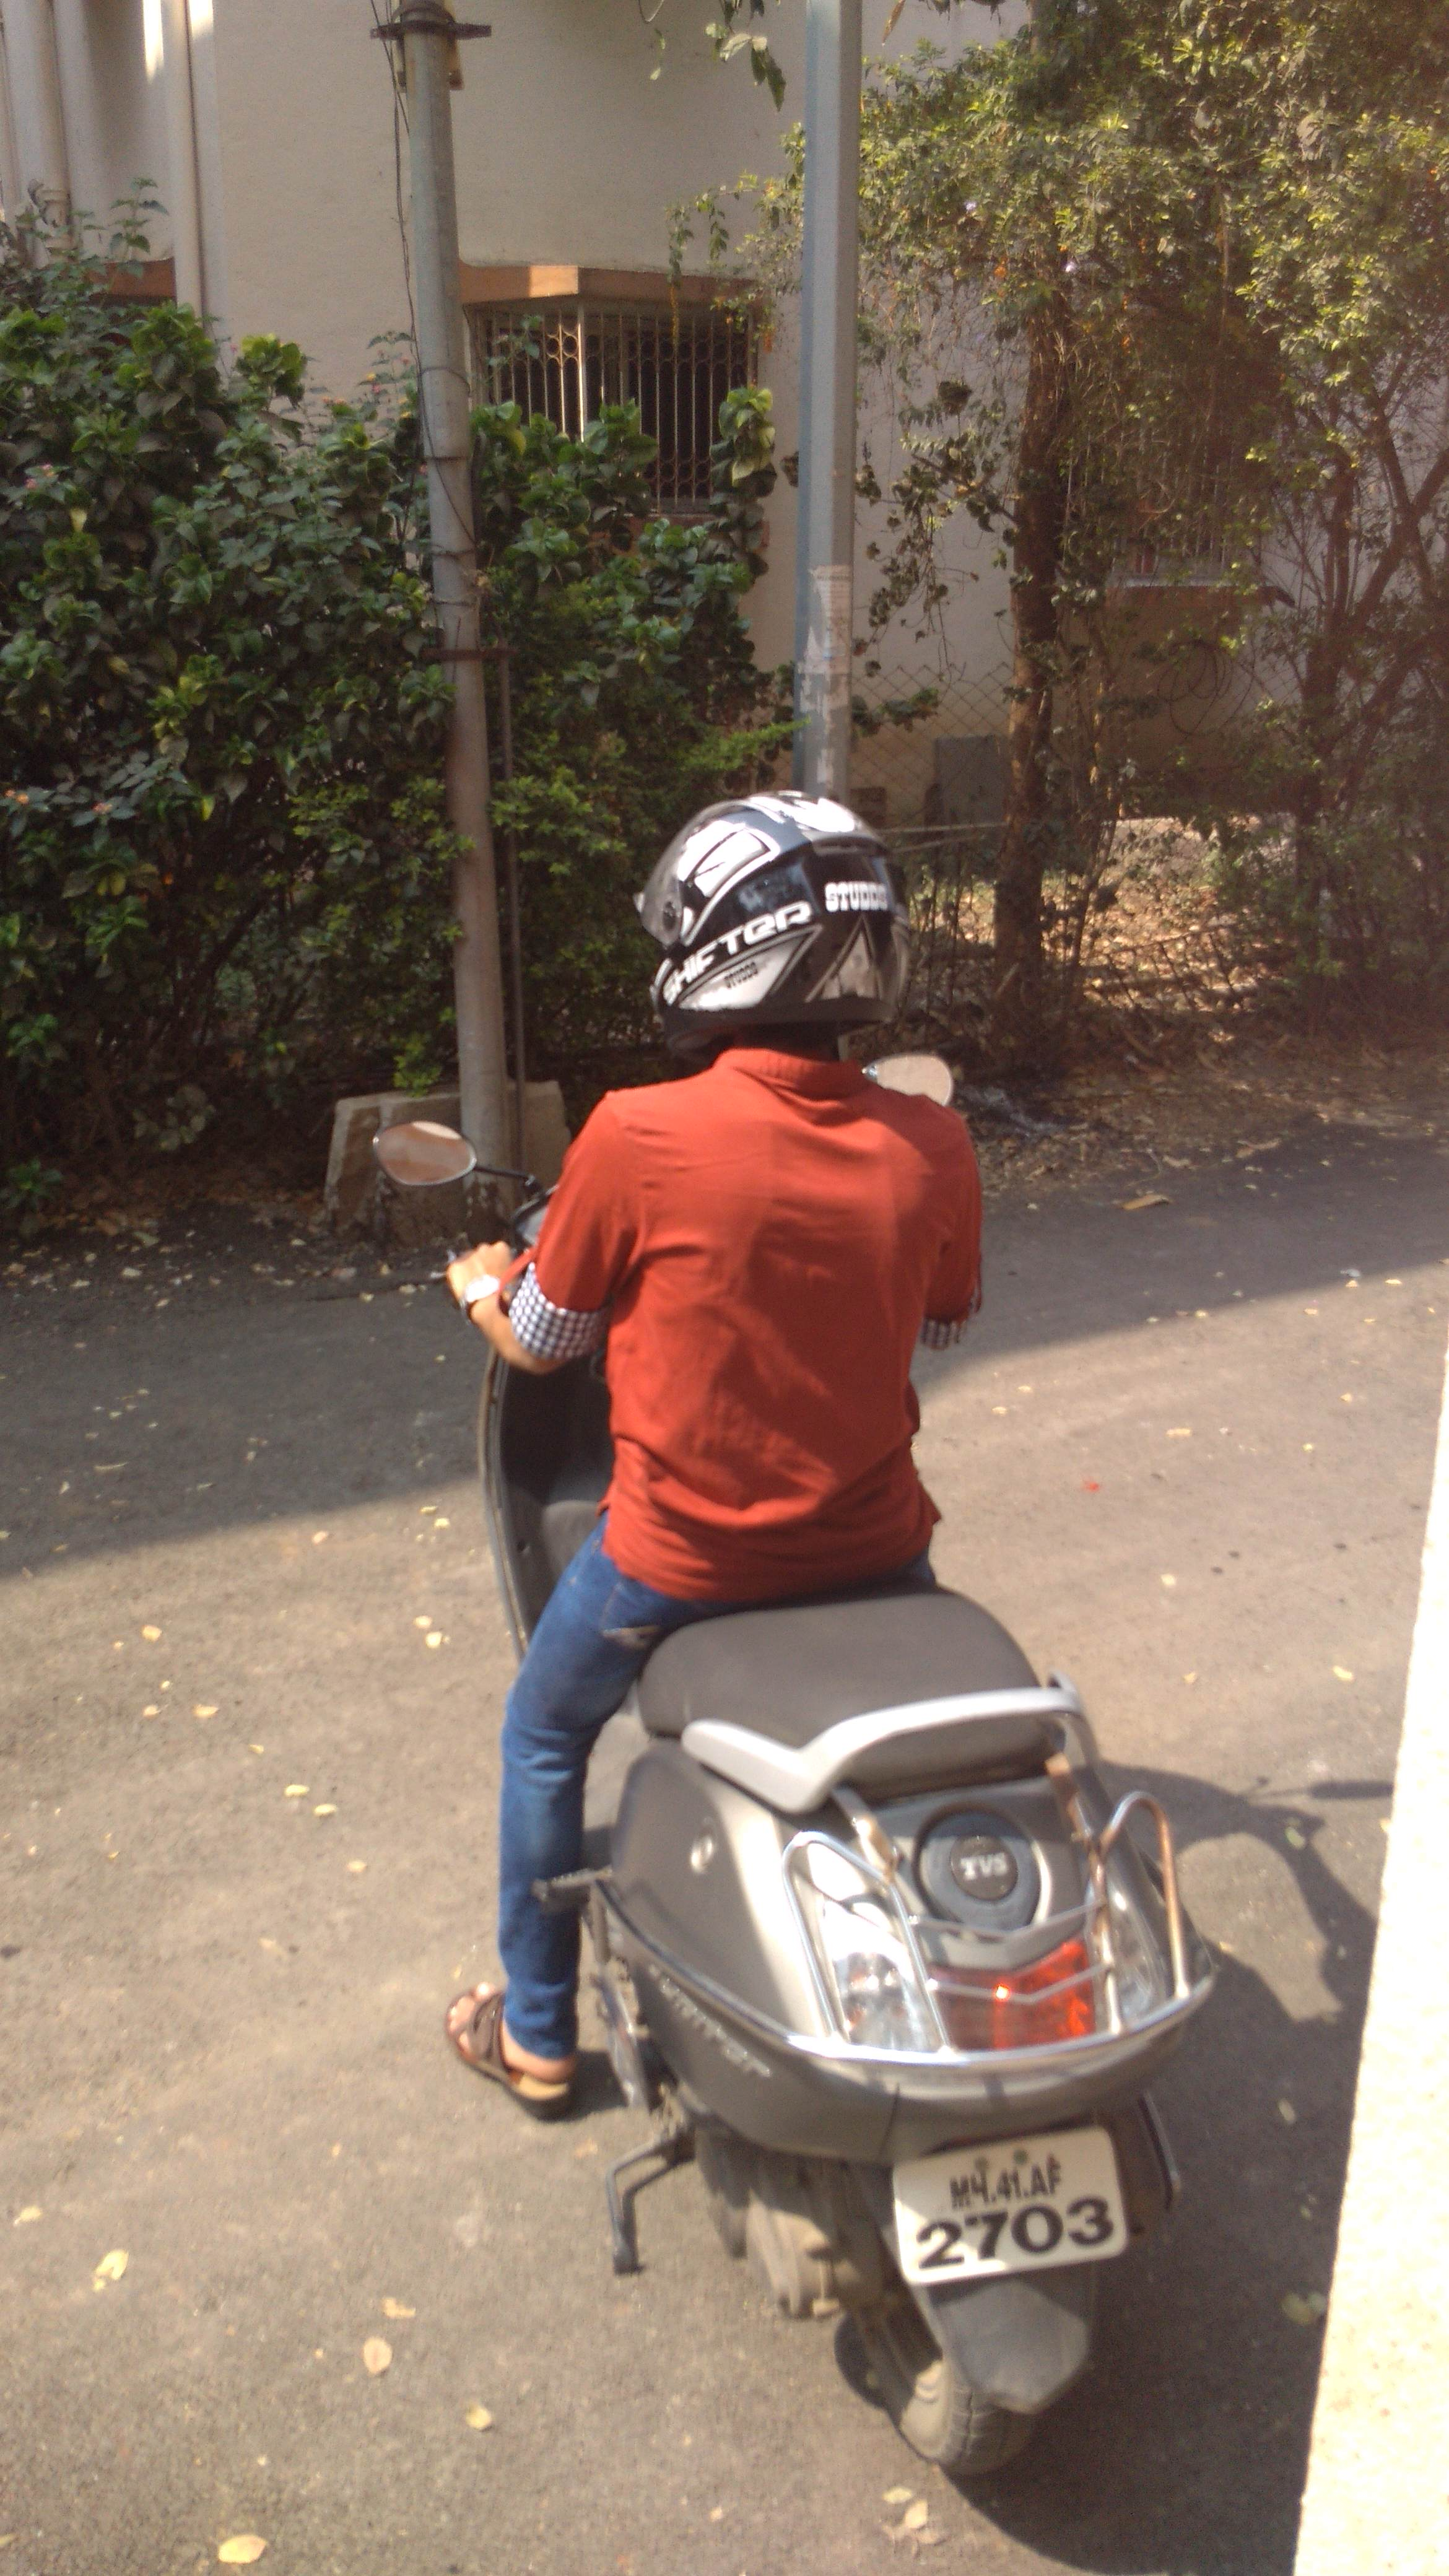helmet: (373, 740, 1125, 2019)
